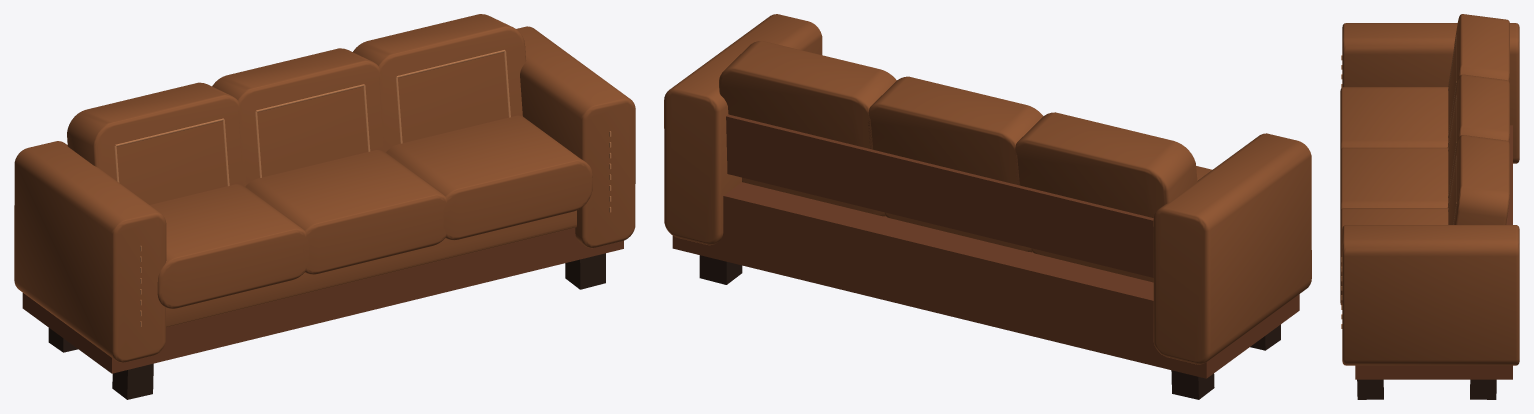
Rendered from cognac-leather-sofa-armRadius-min.glb.
3 renders of one model, left to right at view 1: azimuth 30°, elevation 25°; view 2: azimuth 150°, elevation 25°; view 3: azimuth 270°, elevation 25°, orthographic. The views are drawn at different scales.
Visible parts, largest first — view 1: sofa-part-28, sofa-part-4, seat-cushion-1-part-0, seat-cushion-2-part-0, back-cushion-1-part-0, back-cushion-2-part-0, back-cushion-3-part-0, sofa-part-7, seat-cushion-3-part-0, sofa-part-5, sofa-part-2, sofa-part-0; view 2: sofa-part-4, sofa-part-28, sofa-part-6, back-cushion-3-part-0, sofa-part-7, back-cushion-1-part-0, back-cushion-2-part-0, sofa-part-3, sofa-part-1, seat-cushion-3-part-0, seat-cushion-2-part-0, seat-cushion-1-part-0; view 3: sofa-part-7, sofa-part-28, seat-cushion-2-part-0, seat-cushion-3-part-0, back-cushion-1-part-0, back-cushion-2-part-0, back-cushion-3-part-0, sofa-part-4, seat-cushion-1-part-0, sofa-part-0, sofa-part-1.
Part boxes in pixels (x1,y1,x2,y2): sofa-part-28: (14,141,166,362); sofa-part-4: (22,228,623,373); seat-cushion-1-part-0: (386,115,592,240); seat-cushion-2-part-0: (245,150,446,274); back-cushion-1-part-0: (353,14,525,152); back-cushion-2-part-0: (212,48,383,185); back-cushion-3-part-0: (67,82,245,204); sofa-part-7: (516,26,635,248); seat-cushion-3-part-0: (150,184,309,308); sofa-part-5: (166,210,576,327); sofa-part-2: (112,363,153,399); sofa-part-0: (565,253,605,289); sofa-part-4: (672,182,1299,378); sofa-part-28: (1153,133,1311,364); sofa-part-6: (726,114,1153,277); back-cushion-3-part-0: (1015,112,1197,217); sofa-part-7: (664,14,822,245); back-cushion-1-part-0: (719,41,896,149); back-cushion-2-part-0: (868,76,1043,185); sofa-part-3: (1171,370,1214,399); sofa-part-1: (699,255,742,284); seat-cushion-3-part-0: (1031,166,1212,282); seat-cushion-2-part-0: (885,212,1031,252); seat-cushion-1-part-0: (742,177,885,216); sofa-part-7: (1342,225,1519,365); sofa-part-28: (1342,23,1519,163); seat-cushion-2-part-0: (1340,147,1448,211); seat-cushion-3-part-0: (1340,87,1448,150); back-cushion-1-part-0: (1448,135,1509,224); back-cushion-2-part-0: (1447,74,1509,207); back-cushion-3-part-0: (1447,14,1509,147); sofa-part-4: (1355,125,1512,379); seat-cushion-1-part-0: (1340,208,1448,304); sofa-part-0: (1357,379,1383,399); sofa-part-1: (1470,379,1496,399).
Bounding box in the file's own units: 2.64 × 1.08 × 0.886.
